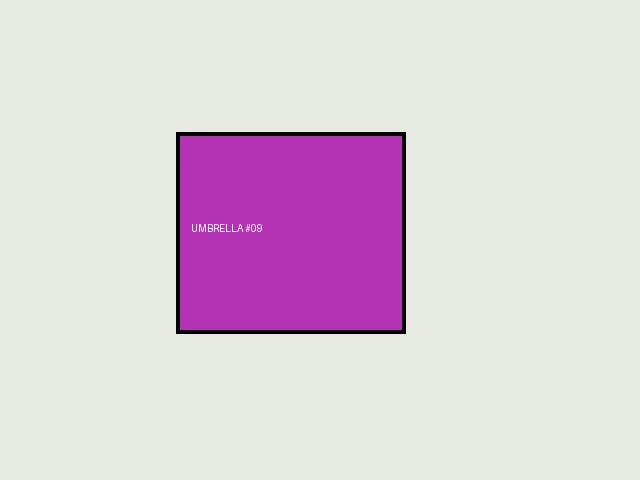umbrella: (176, 132, 405, 333)
